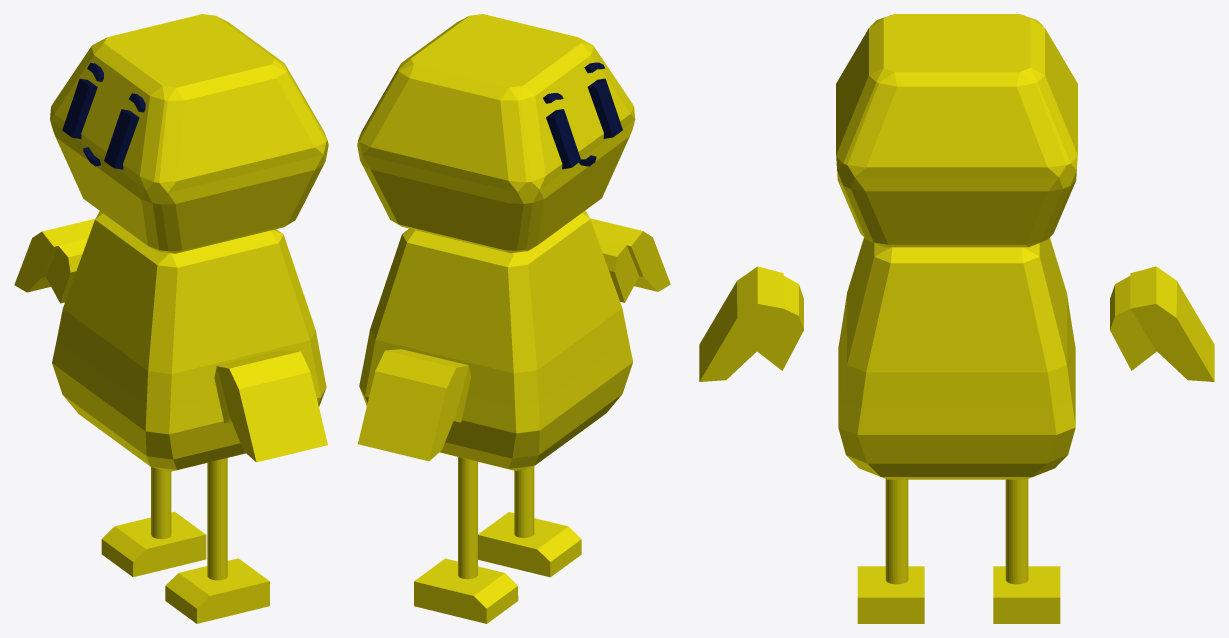
Rendered from player_yellow.gltf.
3 views of the same model, side by side, from view 1: azimuth 30°, elevation 25°; view 2: azimuth 150°, elevation 25°; view 3: azimuth 270°, elevation 25° (orthographic). The views are drawn at different scales.
Visible parts, largest first — view 1: head, body, hand right, foot right, foot left, hand left, leg right, leg left, Cube, Cube.001; view 2: head, body, hand left, foot left, foot right, hand right, leg left, leg right, Cube.001, Cube; view 3: body, head, hand right, hand left, foot left, foot right, leg left, leg right.
Boxes of the visible parts, x1,y1,x2,y2 form: head: [50, 14, 328, 253]; body: [52, 211, 326, 471]; hand right: [214, 350, 327, 462]; foot right: [165, 558, 269, 623]; foot left: [101, 511, 206, 577]; hand left: [14, 219, 94, 303]; leg right: [207, 458, 227, 580]; leg left: [151, 467, 171, 539]; Cube: [104, 109, 139, 169]; Cube.001: [62, 78, 97, 139]; head: [357, 14, 635, 253]; body: [359, 210, 632, 470]; hand left: [358, 349, 470, 461]; foot left: [414, 558, 518, 623]; foot right: [478, 512, 581, 577]; hand right: [590, 218, 670, 302]; leg left: [458, 457, 477, 579]; leg right: [514, 466, 534, 537]; Cube.001: [546, 109, 581, 169]; Cube: [587, 78, 622, 138]; body: [838, 237, 1075, 479]; head: [836, 14, 1077, 247]; hand right: [699, 266, 803, 381]; hand left: [1110, 266, 1214, 381]; foot left: [993, 566, 1060, 623]; foot right: [857, 566, 924, 623]; leg left: [1005, 479, 1028, 584]; leg right: [885, 479, 908, 584].
Bounding box in the file's own units: 1.82 × 4.76 × 3.95.
